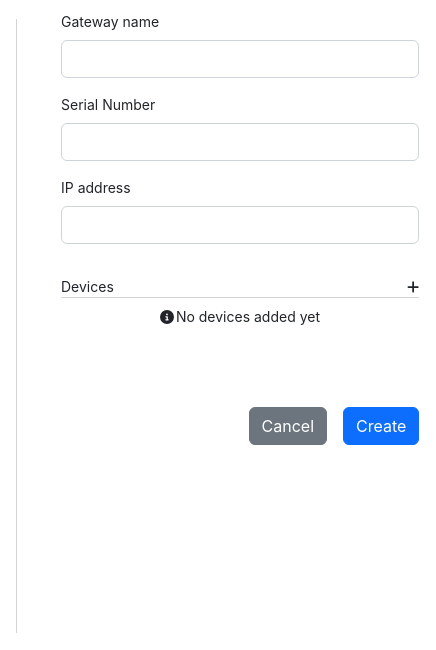
if IPv4 validation work from UI
Type "11.124.156.256" into the field with test id "ipv4" at (240, 225), box [61, 206, 419, 244]
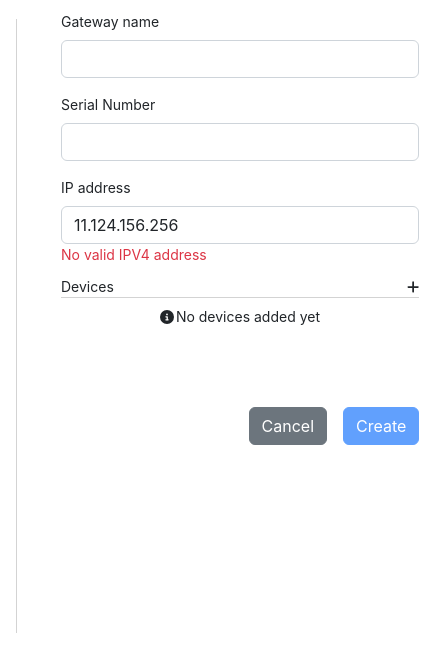
Check: the text "No valid IPV4 address" is shown, box [61, 244, 207, 265]
